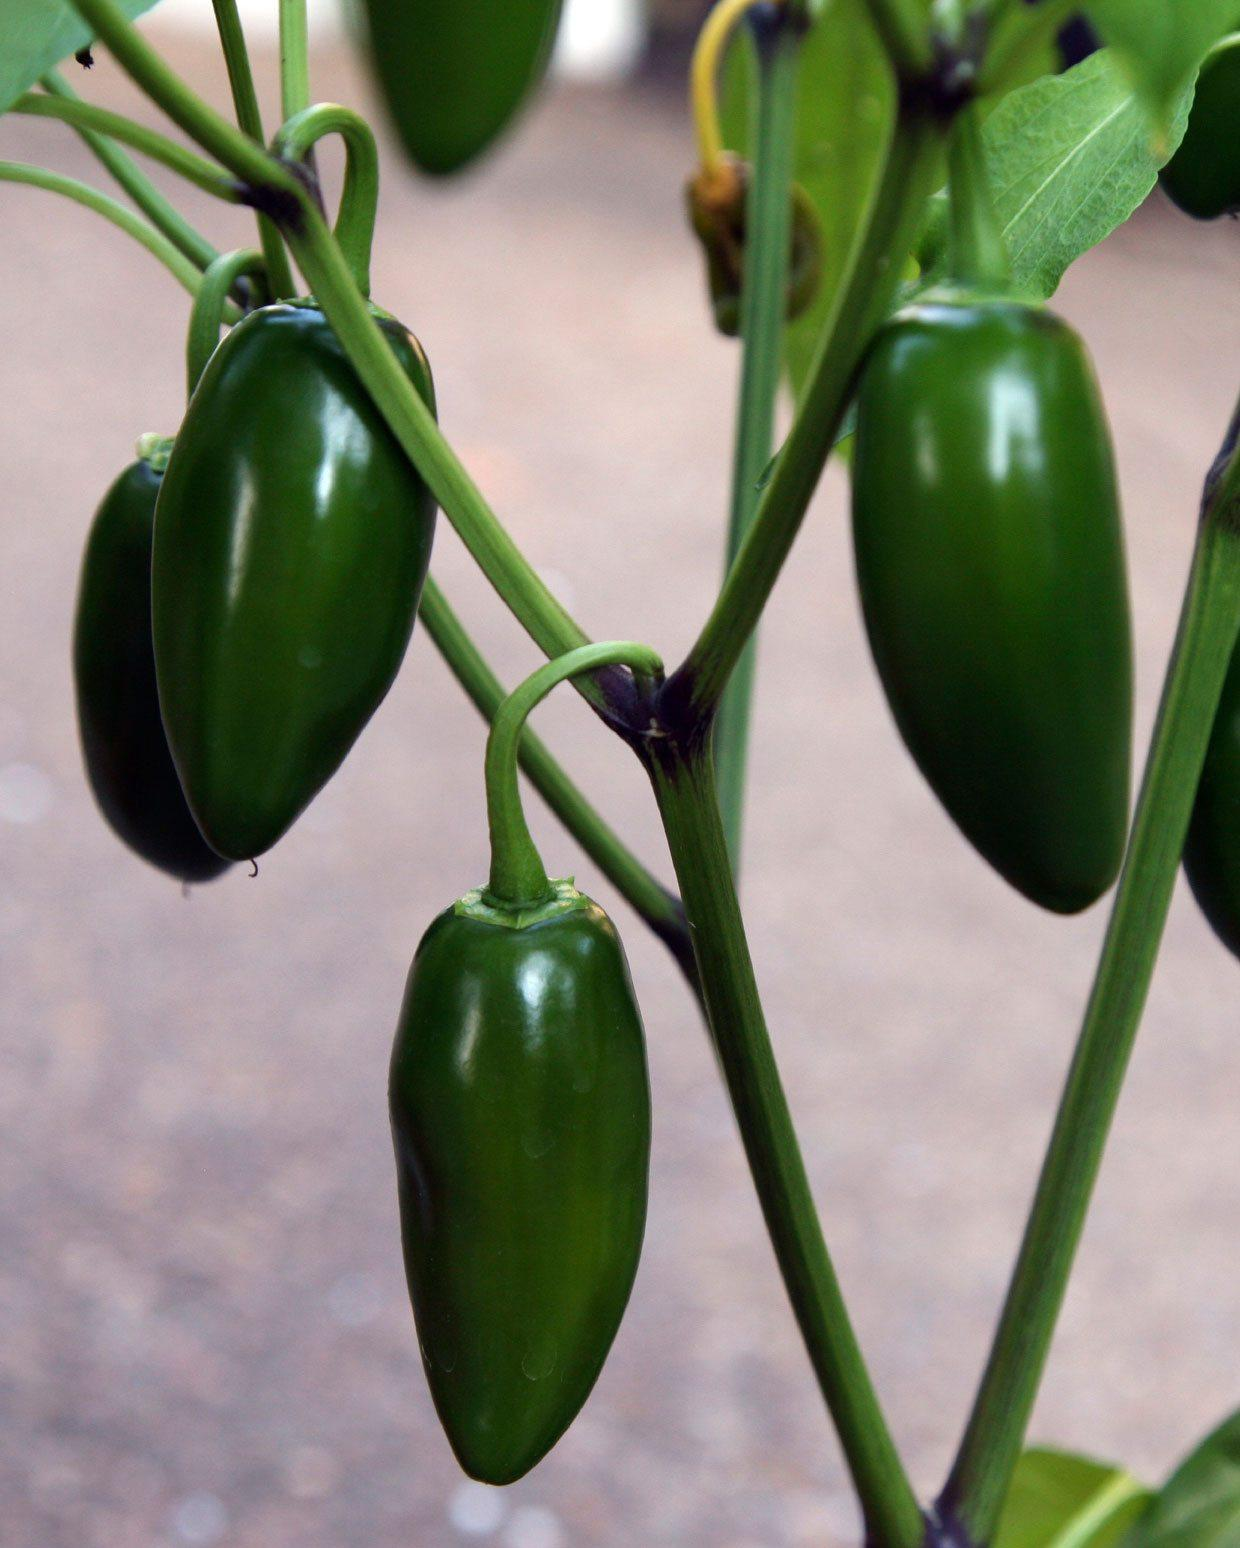jalepeno: (385, 640, 660, 1486), (846, 285, 1136, 916), (146, 293, 440, 871), (70, 430, 238, 888), (361, 0, 564, 178), (683, 149, 825, 336), (1178, 637, 1237, 960), (1155, 32, 1237, 221)
